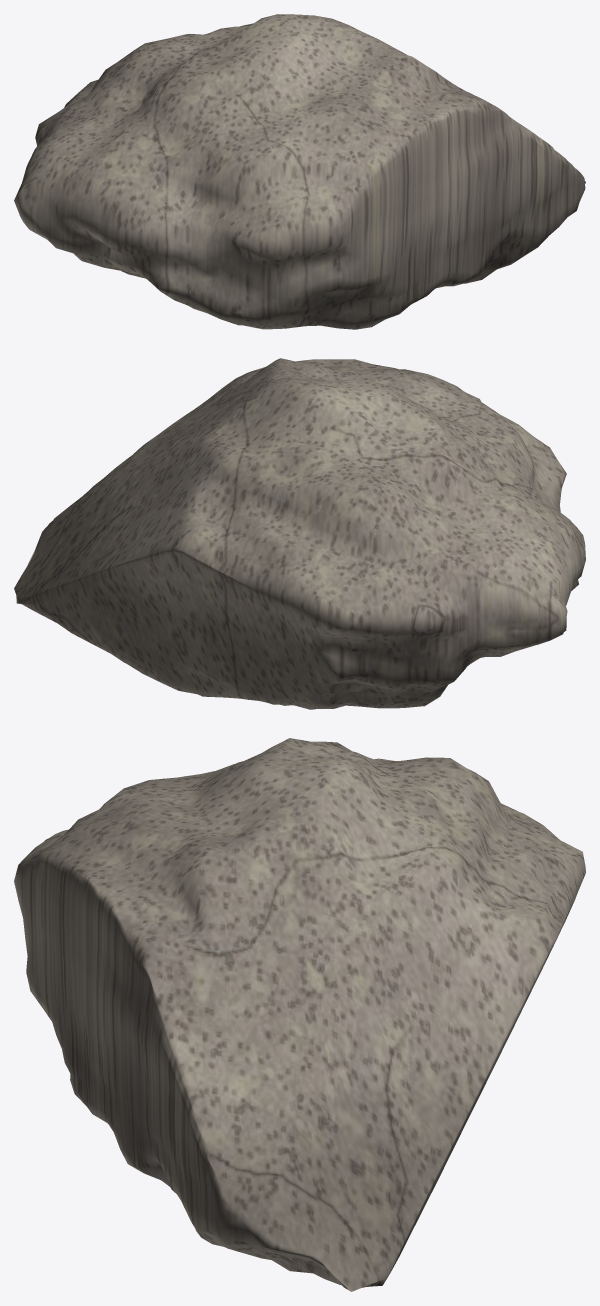
Rendered from rock-granite-1.full.glb.
The picture shows the model from 3 angles, top to bottom: view 1: azimuth 30°, elevation 25°; view 2: azimuth 150°, elevation 25°; view 3: azimuth 270°, elevation 25°; orthographic projection. The views are drawn at different scales.
Parts seen in each view (by area): view 1: model; view 2: model; view 3: model.
Part boxes in pixels (left/top/right/bottom): model: left=14, top=14, right=585, bottom=329; model: left=14, top=358, right=585, bottom=709; model: left=14, top=738, right=585, bottom=1291.
Bounding box in the file's own units: 1 × 0.531 × 0.6963.
1 material, 1 textured.
